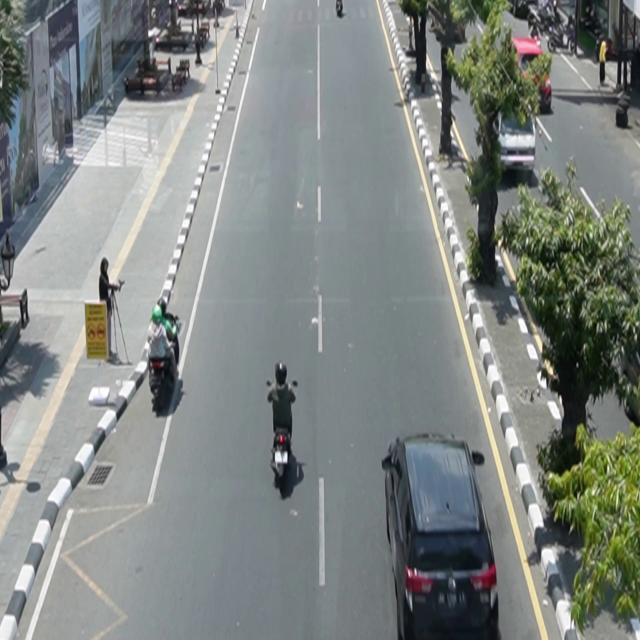car: (382, 432, 500, 640), (506, 37, 553, 114)
